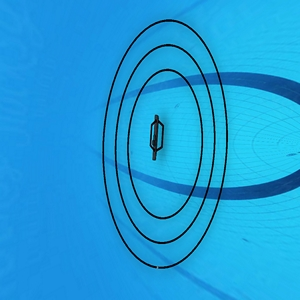circle: (102, 16, 227, 271)
submarine: (149, 113, 165, 160)
